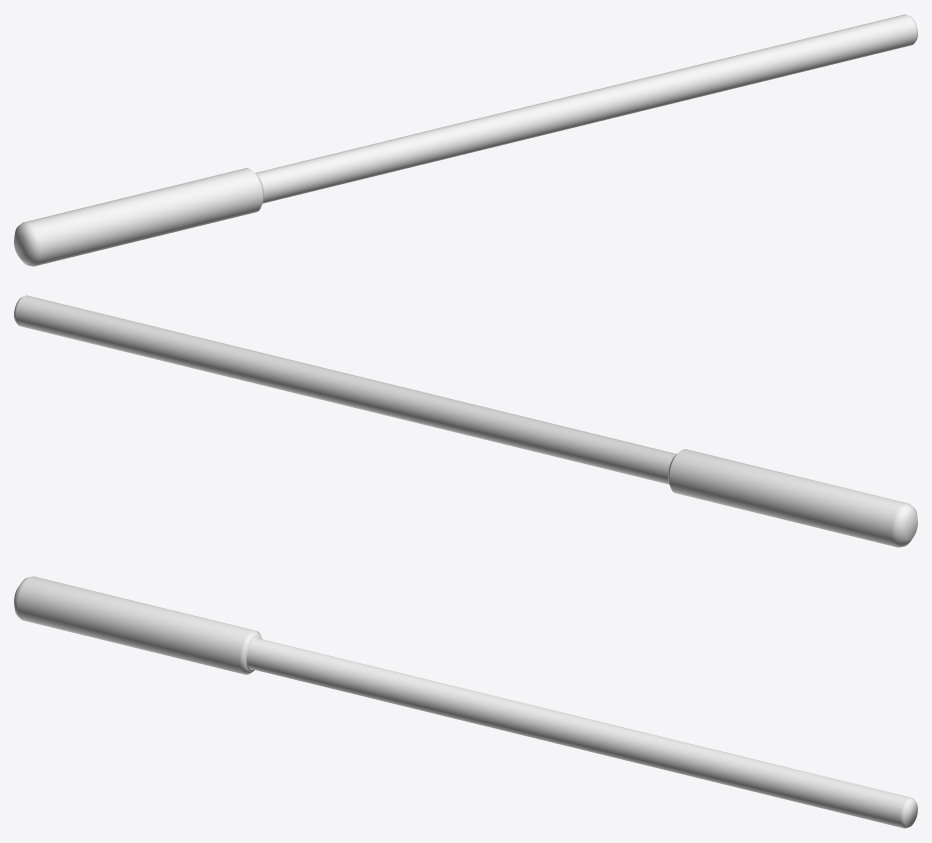
Rendered from Angel.gltf.
3 views of the same model, one above another, from view 1: azimuth 30°, elevation 25°; view 2: azimuth 150°, elevation 25°; view 3: azimuth 330°, elevation 25° (orthographic).
Visible parts, largest first — view 1: Cylinder.001; view 2: Cylinder.001; view 3: Cylinder.001.
Part boxes in pixels (x1,y1,x2,y2): Cylinder.001: [14, 14, 917, 266]; Cylinder.001: [14, 295, 917, 547]; Cylinder.001: [14, 576, 917, 828].
Bounding box in the file's own units: 0.2707 × 0.012 × 0.012.
Materials: 1 (1 with a texture image).
